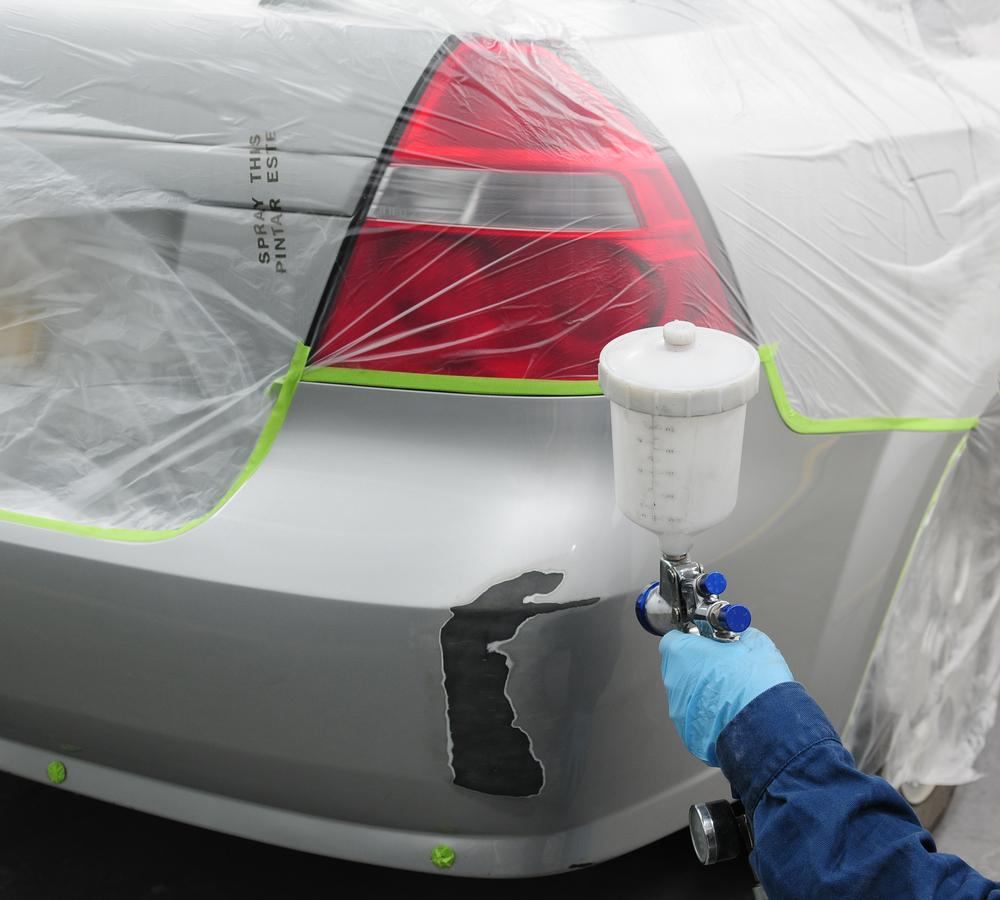scratch: (432, 564, 602, 808)
